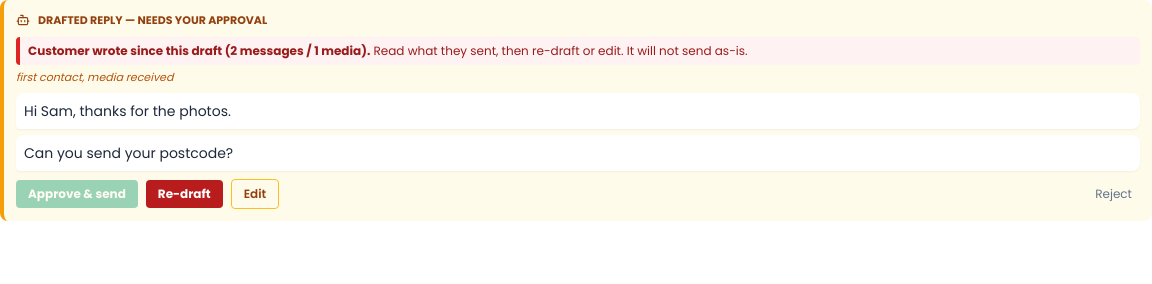
DraftApprovalCard — stale by inbound (P7) › shows the red banner with the counts and disables one-tap approve; edit still works
The width and height of the screenshot is (1152, 284).
Expected: the element with test id "stale-banner" shows "Customer wrote since this draft (2 messages / 1 media)", 16,36 -> 1140,64
Expected: the button "Approve & send" is disabled, 16,180 -> 138,208
Editing the words re-enables approve (the server still refuses if the thread is stale).
Click the button "Edit" at (255,194), box 231,179 -> 279,209
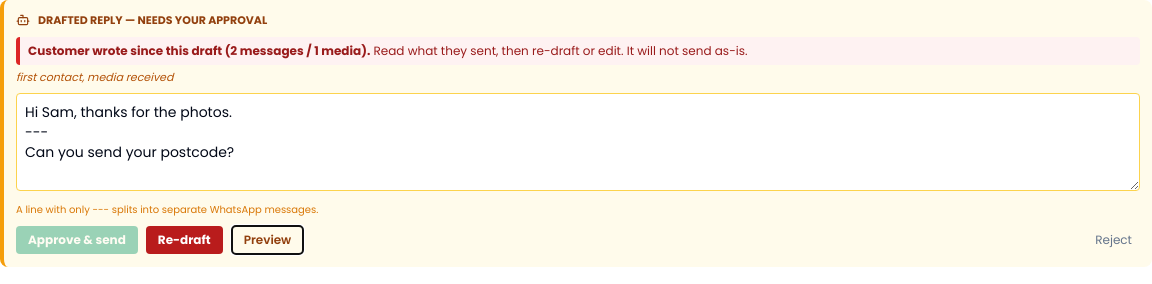
Clear the text box at (578,142), box 16,93 -> 1140,191
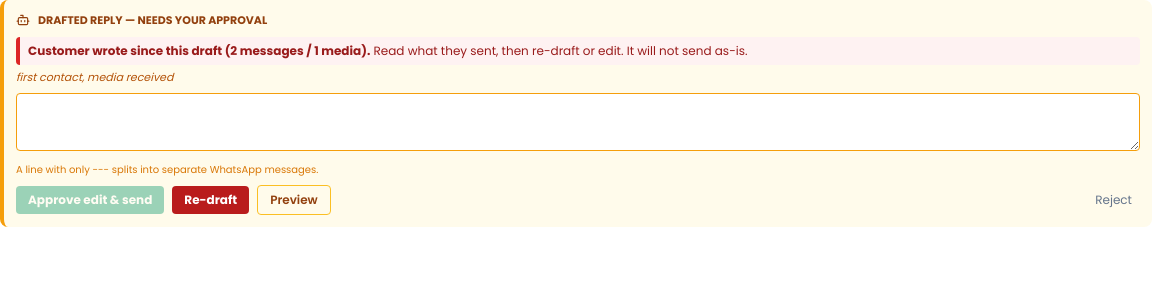
Type "Got the measurement, thanks." into the text box at (578,122), box 16,93 -> 1140,151
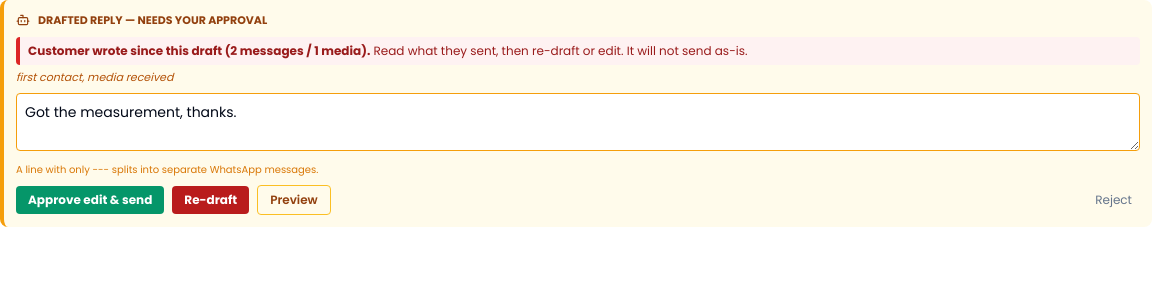
Expected: the button "Approve edit & send" is enabled, 16,186 -> 164,214
